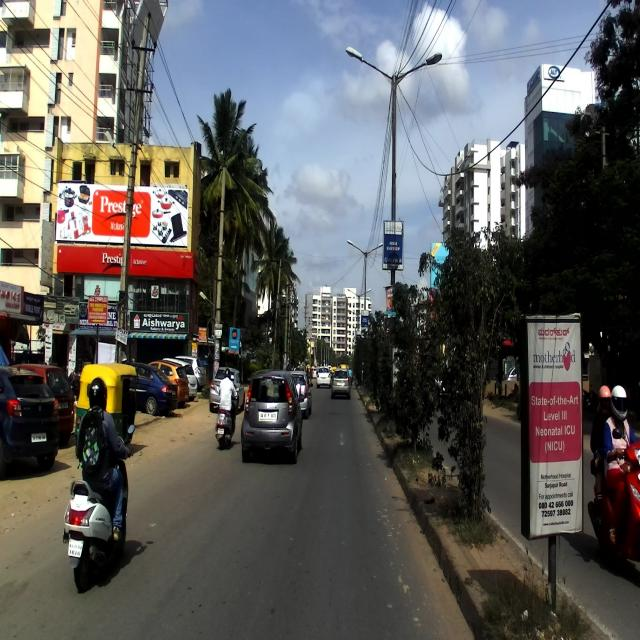Car_Maruti-Suzuki: (0, 365, 61, 471), (240, 369, 305, 464), (11, 363, 74, 447)
autorickshaw: (73, 362, 139, 458)
scooter: (62, 422, 136, 594)
